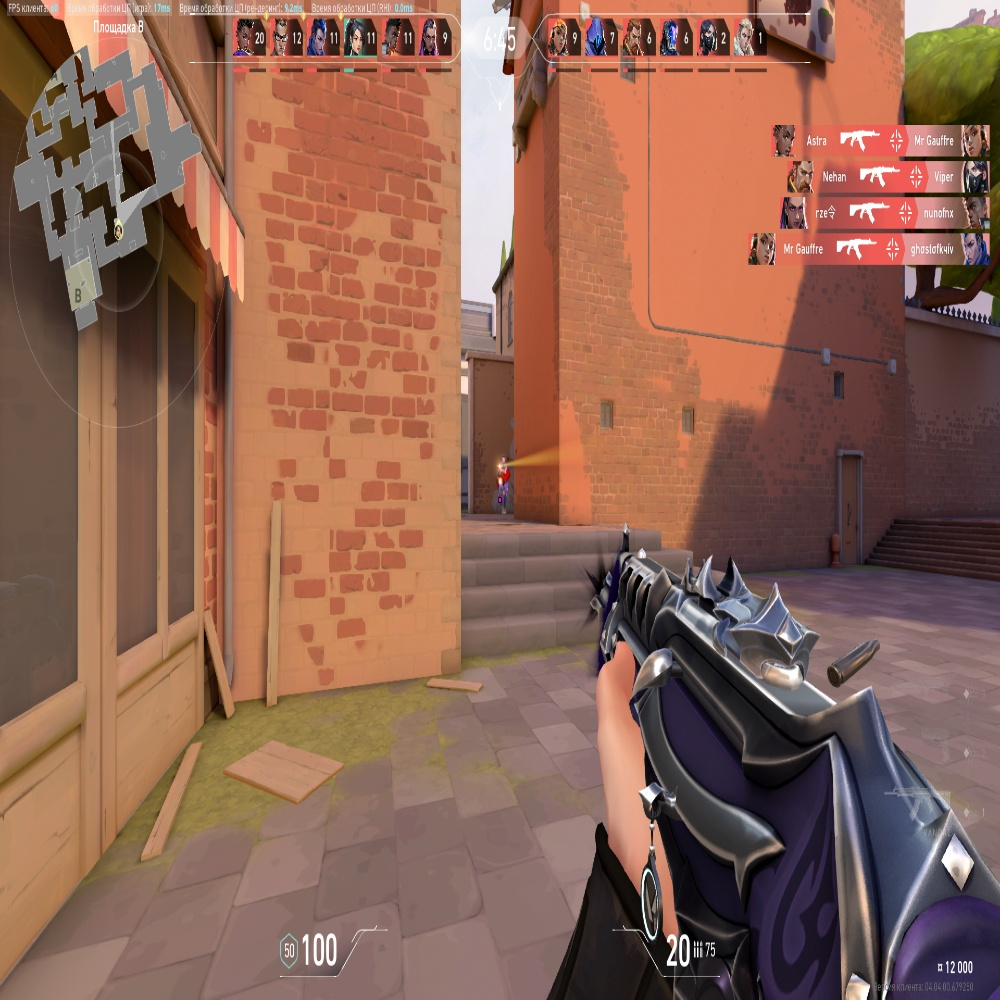body: (498, 465, 509, 483)
head: (501, 455, 505, 463)
